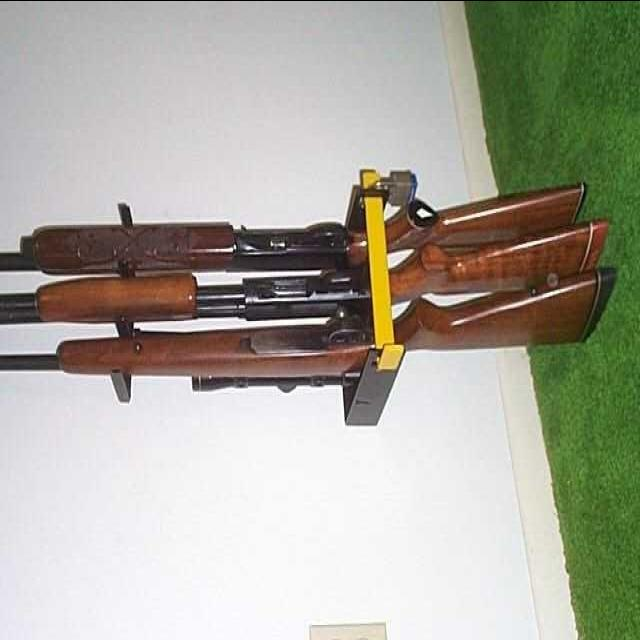heavyweapon: (1, 264, 634, 398)
